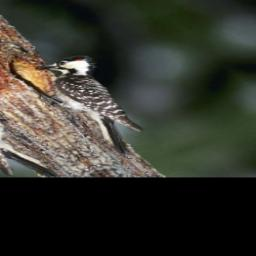Woodpecker: (11, 48, 187, 160)
